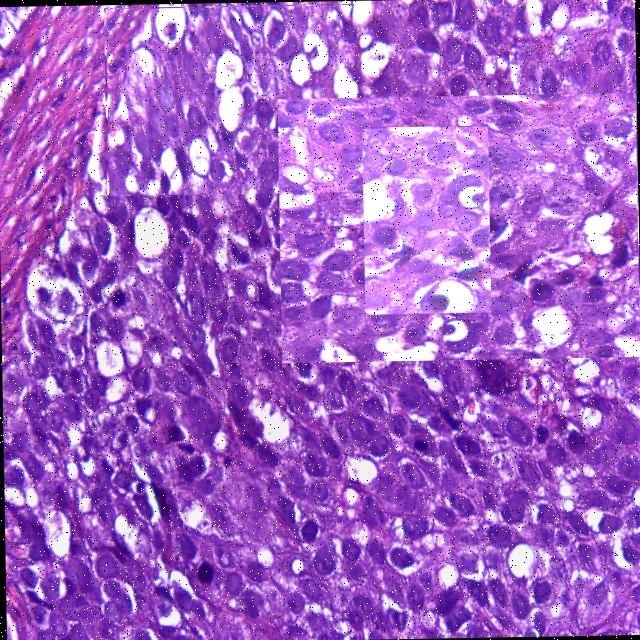Nuclear Hyperchromatism: (3, 195, 640, 640), (281, 92, 637, 361), (106, 4, 355, 193), (363, 126, 487, 313)
